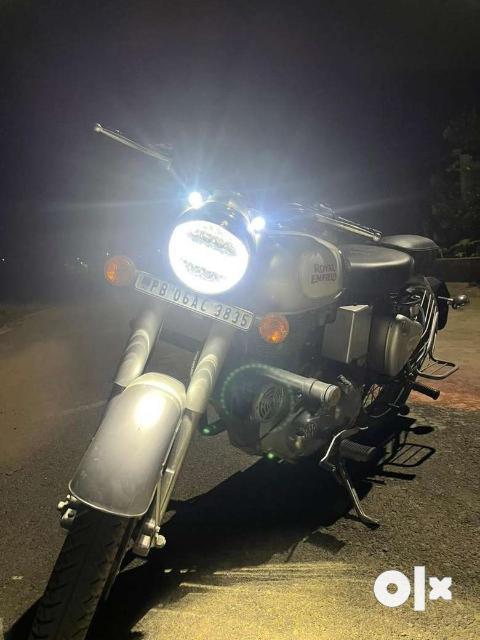Indian_Number_Plate: (133, 273, 255, 333)
